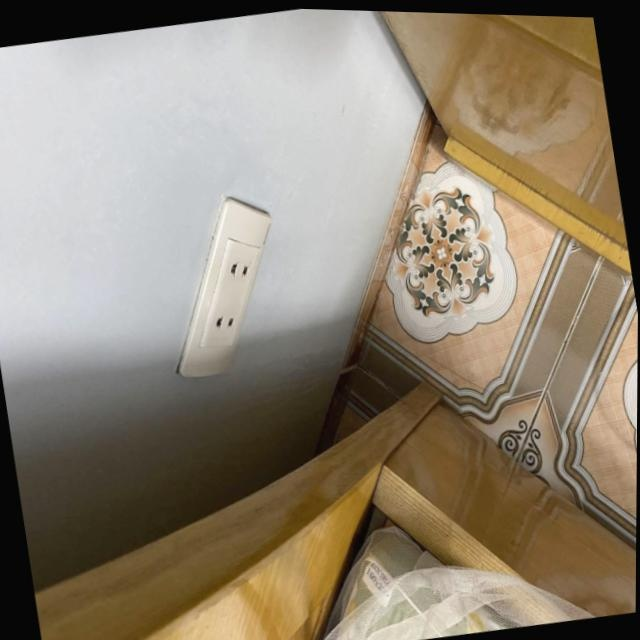outlet: (151, 188, 295, 384)
